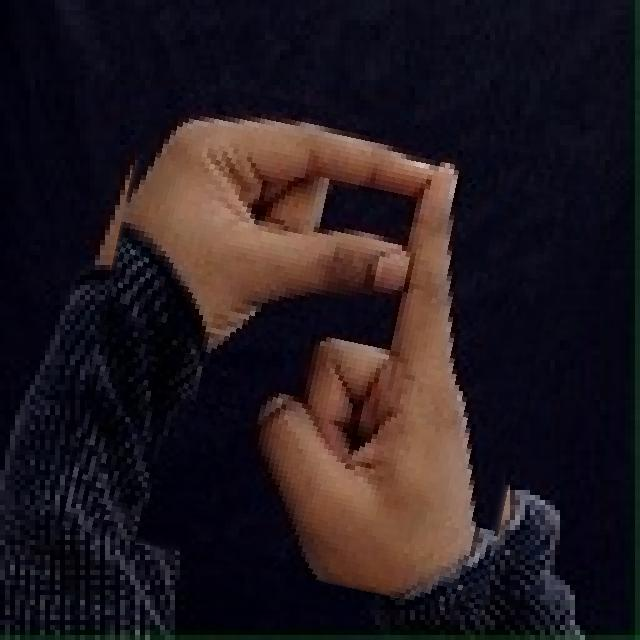P: (78, 92, 556, 596)
